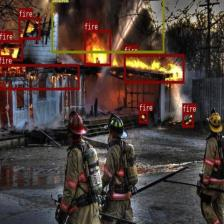fire: (0, 64, 79, 90), (124, 54, 184, 83), (84, 30, 111, 65), (18, 17, 40, 40), (0, 40, 23, 60), (182, 111, 194, 127), (138, 111, 148, 122)
smoke: (51, 0, 163, 52)
